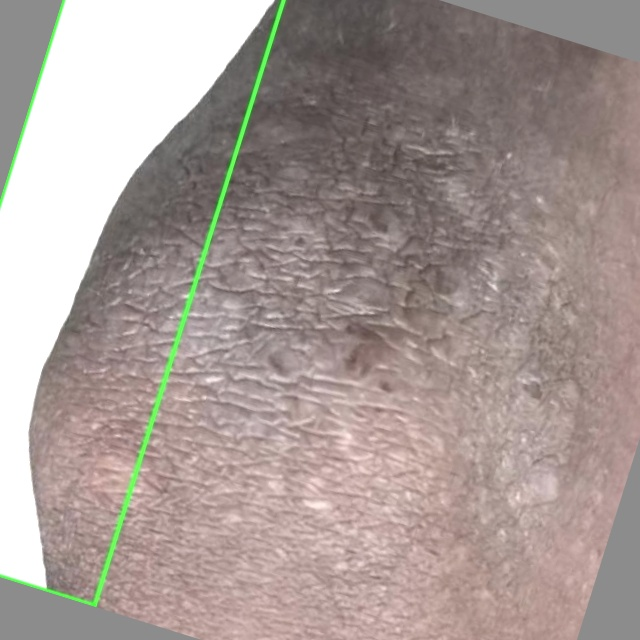Eczema: (0, 0, 284, 606)
